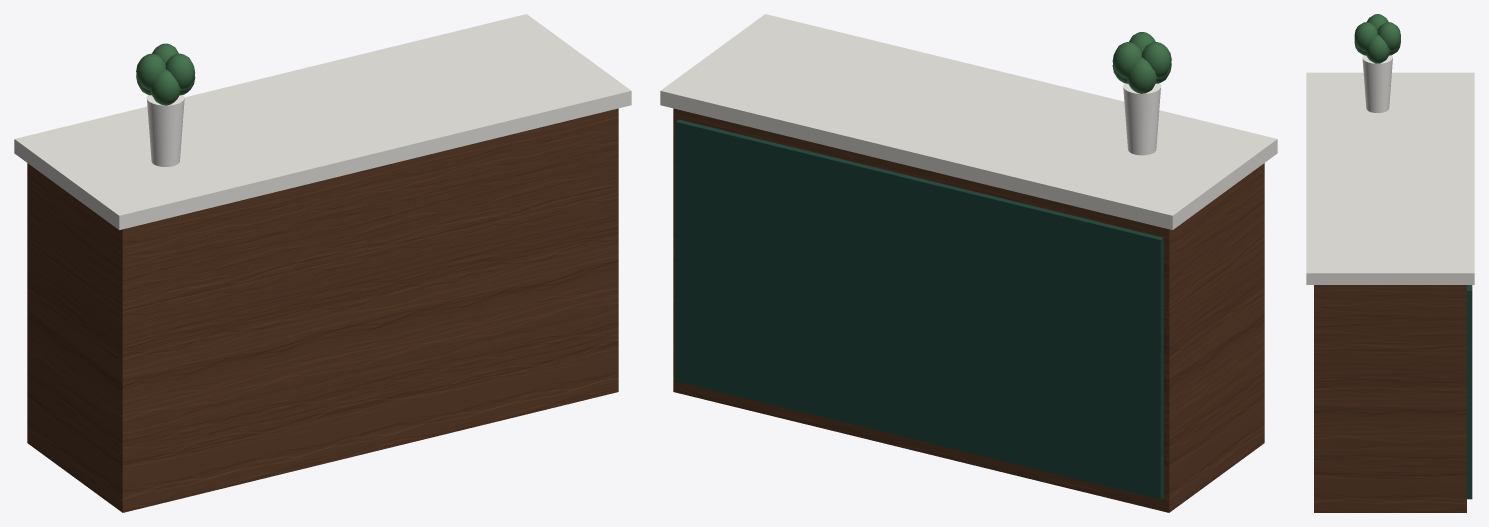
Rendered from Concierge_Desk.glb.
The picture shows the model from 3 angles, left to right: view 1: azimuth 30°, elevation 25°; view 2: azimuth 150°, elevation 25°; view 3: azimuth 270°, elevation 25°; orthographic projection. The views are drawn at different scales.
Parts seen in each view (by area): view 1: Concierge_Desk_Walnut, Concierge_Desk_Stone, Concierge_Desk_Foliage, Concierge_Desk_White; view 2: Concierge_Desk_Green_Fluted, Concierge_Desk_Stone, Concierge_Desk_Walnut, Concierge_Desk_Foliage, Concierge_Desk_White; view 3: Concierge_Desk_Stone, Concierge_Desk_Walnut, Concierge_Desk_Foliage, Concierge_Desk_White, Concierge_Desk_Green_Fluted.
Part boxes in pixels (<box>): Concierge_Desk_Walnut: <box>27,108,618,512</box>; Concierge_Desk_Stone: <box>14,14,631,229</box>; Concierge_Desk_Foliage: <box>136,43,195,105</box>; Concierge_Desk_White: <box>146,95,184,166</box>; Concierge_Desk_Green_Fluted: <box>675,119,1163,499</box>; Concierge_Desk_Stone: <box>660,14,1277,229</box>; Concierge_Desk_Walnut: <box>673,108,1264,512</box>; Concierge_Desk_Foliage: <box>1112,32,1171,93</box>; Concierge_Desk_White: <box>1123,83,1161,155</box>; Concierge_Desk_Stone: <box>1306,72,1474,284</box>; Concierge_Desk_Walnut: <box>1314,285,1466,512</box>; Concierge_Desk_Foliage: <box>1354,14,1400,63</box>; Concierge_Desk_White: <box>1362,55,1392,112</box>; Concierge_Desk_Green_Fluted: <box>1467,285,1472,499</box>.
Size of the model in its own units: 1.86 by 1.43 by 0.66.
5 materials, 1 textured.
